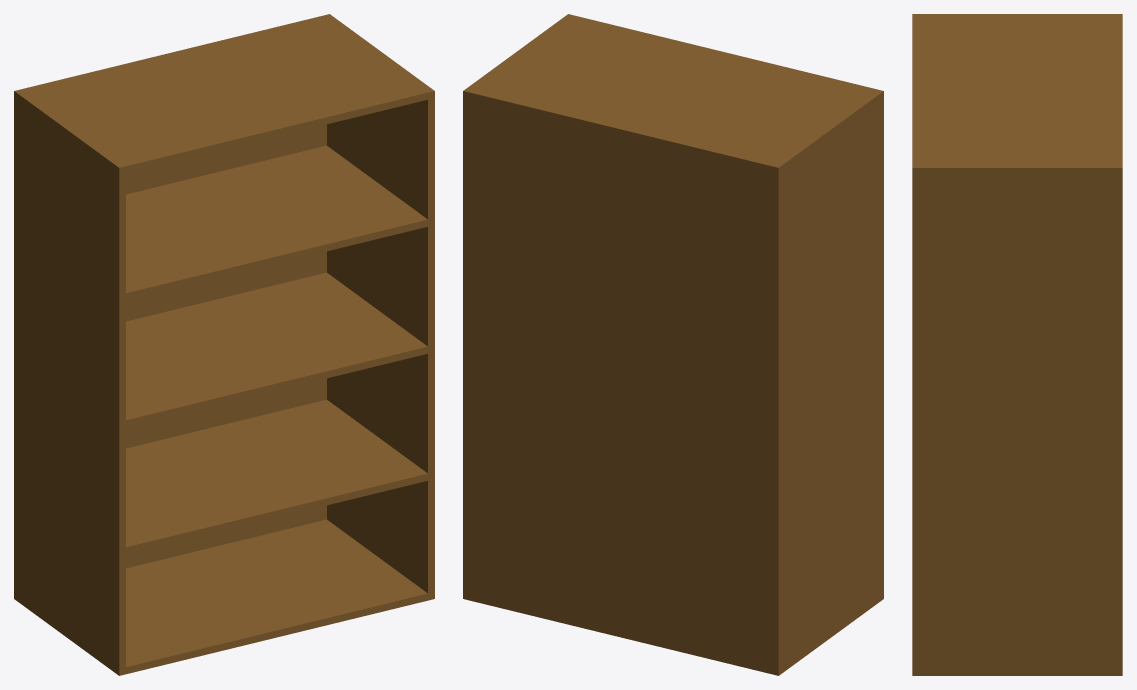
Rendered from Bookshelf.glb.
3 renders of one model, left to right at view 1: azimuth 30°, elevation 25°; view 2: azimuth 150°, elevation 25°; view 3: azimuth 270°, elevation 25°, orthographic.
Visible parts, largest first — view 1: Cube.001; view 2: Cube.001; view 3: Cube.001.
Part boxes in pixels (bbox=[...]): Cube.001: bbox=[14, 14, 434, 675]; Cube.001: bbox=[463, 14, 883, 675]; Cube.001: bbox=[912, 14, 1122, 675].
Size of the model in its own units: 0.7925 by 1.22 by 0.4572.
